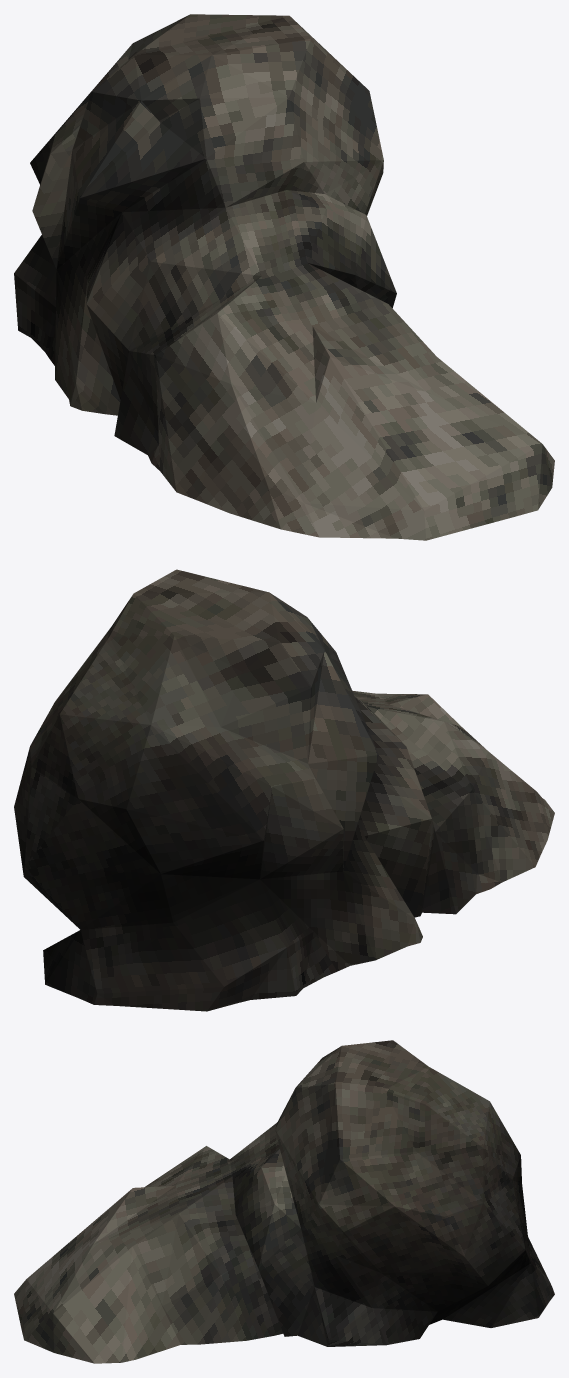
File: rocks_04.glb
3 views of the same model, one above another, from view 1: azimuth 30°, elevation 25°; view 2: azimuth 150°, elevation 25°; view 3: azimuth 270°, elevation 25° (orthographic). The views are drawn at different scales.
Visible parts, largest first — view 1: rocks_04; view 2: rocks_04; view 3: rocks_04.
Boxes of the visible parts, x1=… form: rocks_04: x1=14, y1=14, x2=554, y2=540; rocks_04: x1=14, y1=569, x2=554, y2=1011; rocks_04: x1=14, y1=1040, x2=554, y2=1363.
Bounding box in the file's own units: 7.12 × 6.83 × 13.33.
Materials: 1 (1 with a texture image).
